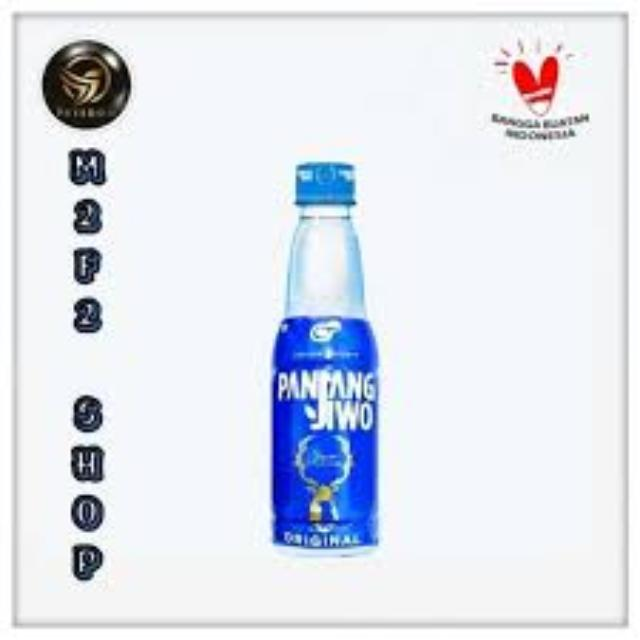trash: (262, 153, 384, 572)
